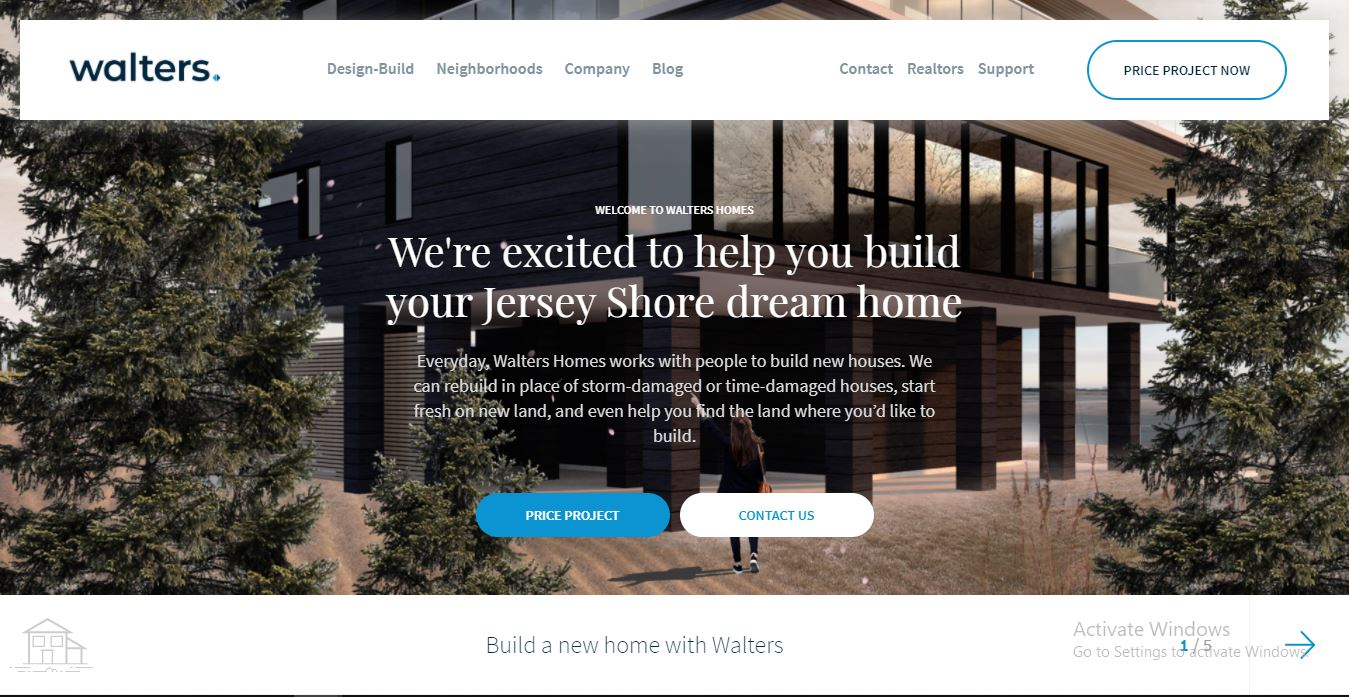Button: (474, 484, 671, 547), (1076, 38, 1285, 96), (682, 486, 875, 543)
Menu Bar: (306, 24, 1043, 108)
